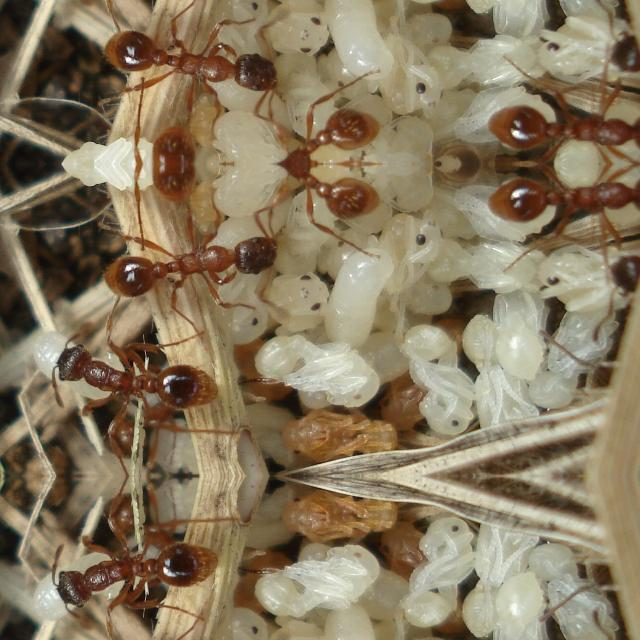Myrmica: (78, 224, 294, 314), (78, 12, 294, 102), (41, 334, 236, 430), (41, 521, 236, 617), (212, 162, 398, 232), (212, 94, 398, 164), (476, 163, 638, 237), (476, 89, 638, 163), (96, 384, 237, 460), (96, 492, 237, 566), (581, 233, 639, 354), (130, 163, 212, 237), (130, 89, 212, 163), (581, 0, 639, 92), (581, 596, 639, 640)
